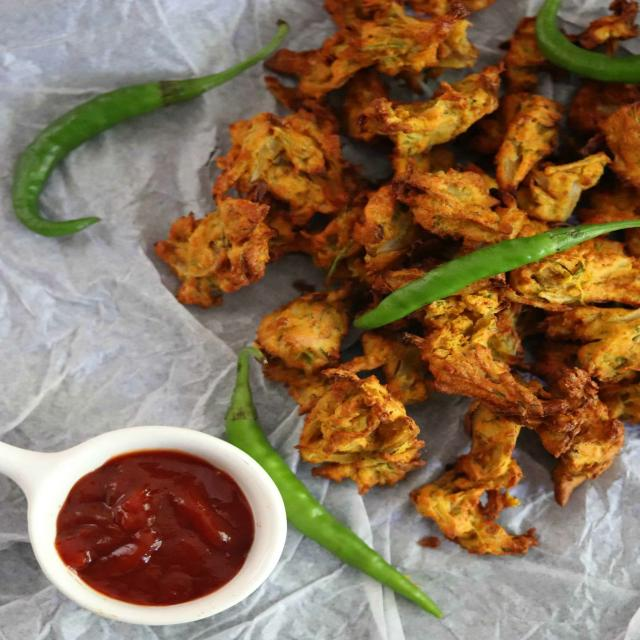Onion Pakora: (154, 0, 640, 559)
